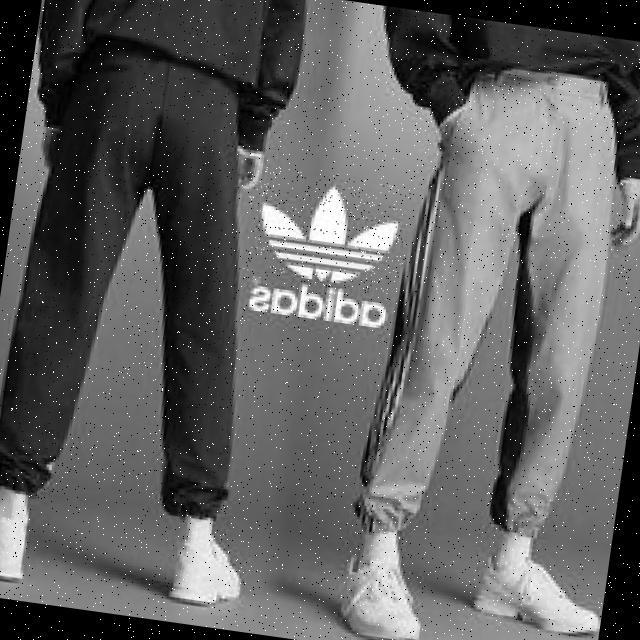Adidas: (239, 163, 415, 298)
